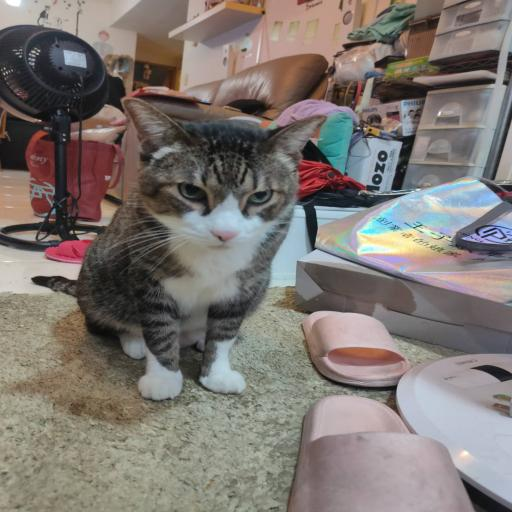cat: (68, 104, 290, 402)
